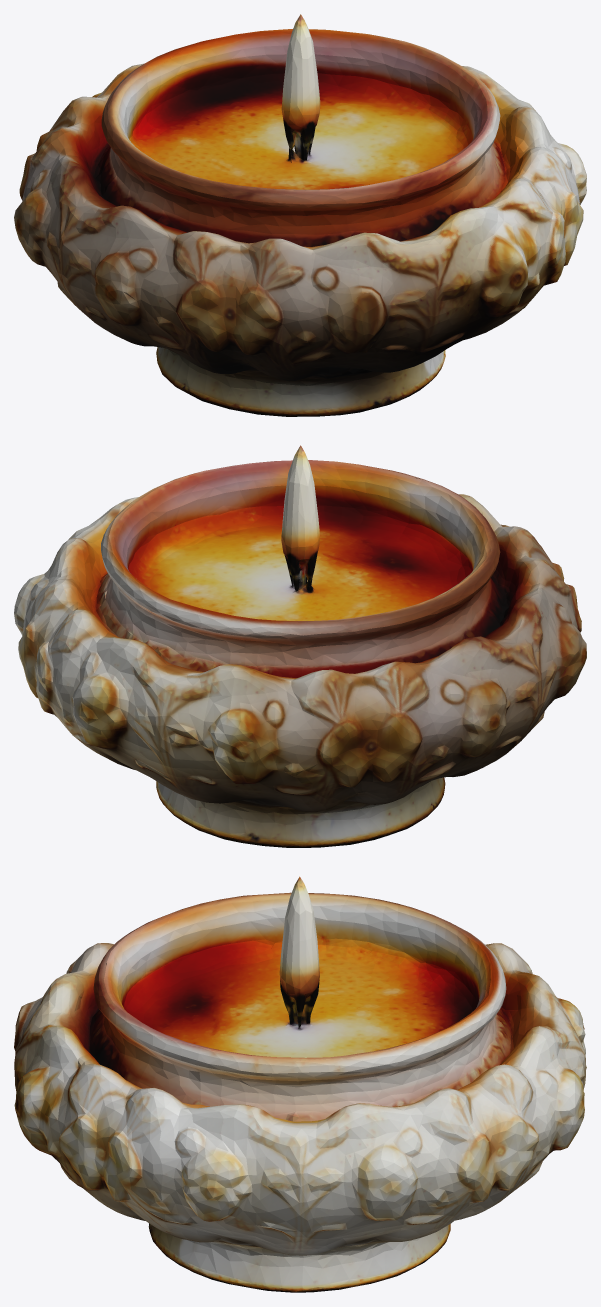
The model's file is porcelain-candle-stand-rustic.jpeg.glb.
3 renders of one model, top to bottom at view 1: azimuth 30°, elevation 25°; view 2: azimuth 150°, elevation 25°; view 3: azimuth 270°, elevation 25°, orthographic. The views are drawn at different scales.
Parts seen in each view (by area): view 1: world; view 2: world; view 3: world.
Boxes of the visible parts, x1,y1,x2,y2 form: world: [14, 14, 586, 416]; world: [14, 445, 586, 847]; world: [14, 876, 586, 1292].
Bounding box in the file's own units: 0.9807 × 0.668 × 0.9797.
1 material, 1 textured.
